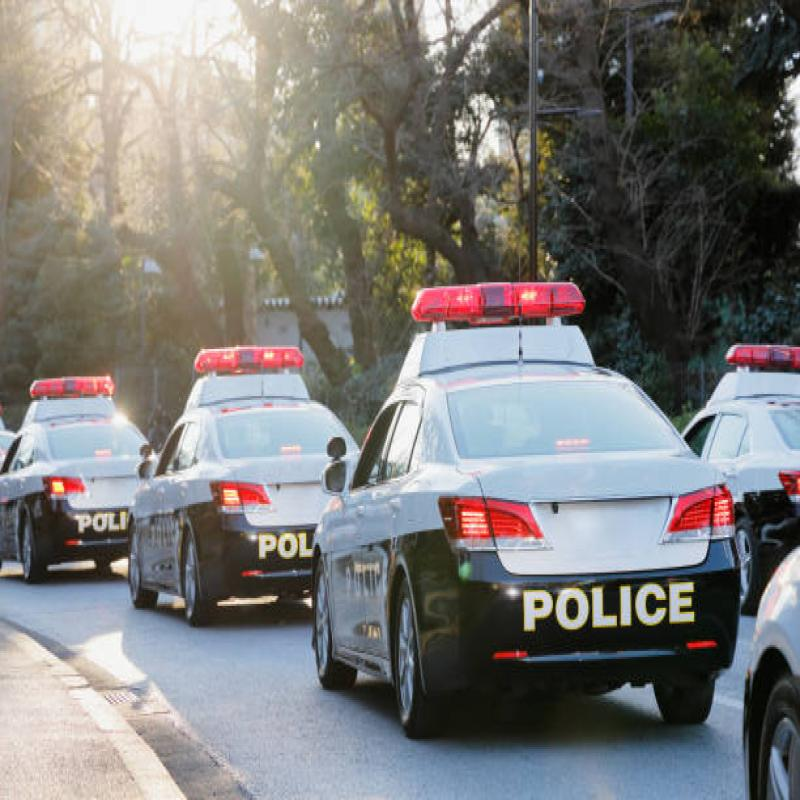AmbulanceSiren: (403, 262, 582, 326), (181, 332, 324, 392), (715, 330, 800, 390), (20, 359, 129, 402)
